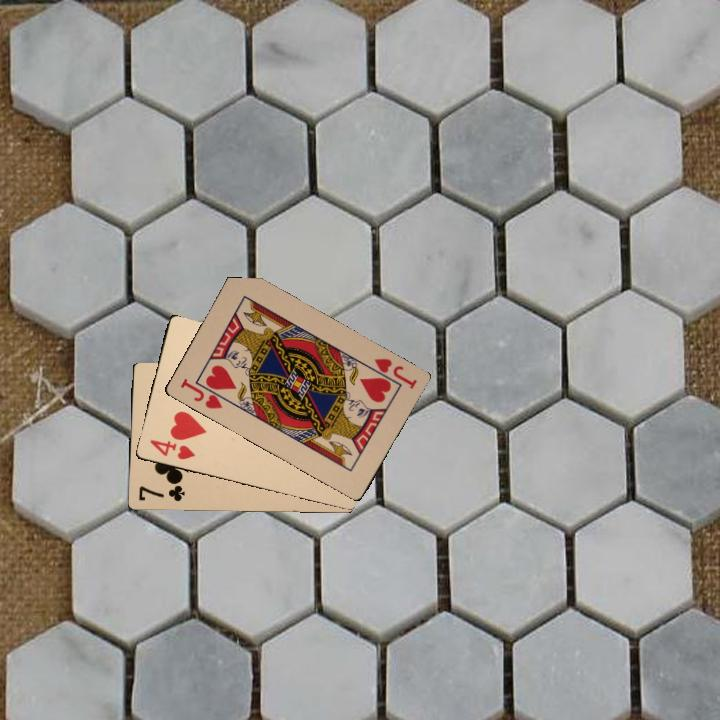4h: (146, 435, 197, 462)
7c: (135, 481, 187, 504)
Jh: (364, 352, 420, 391), (176, 374, 230, 412)
